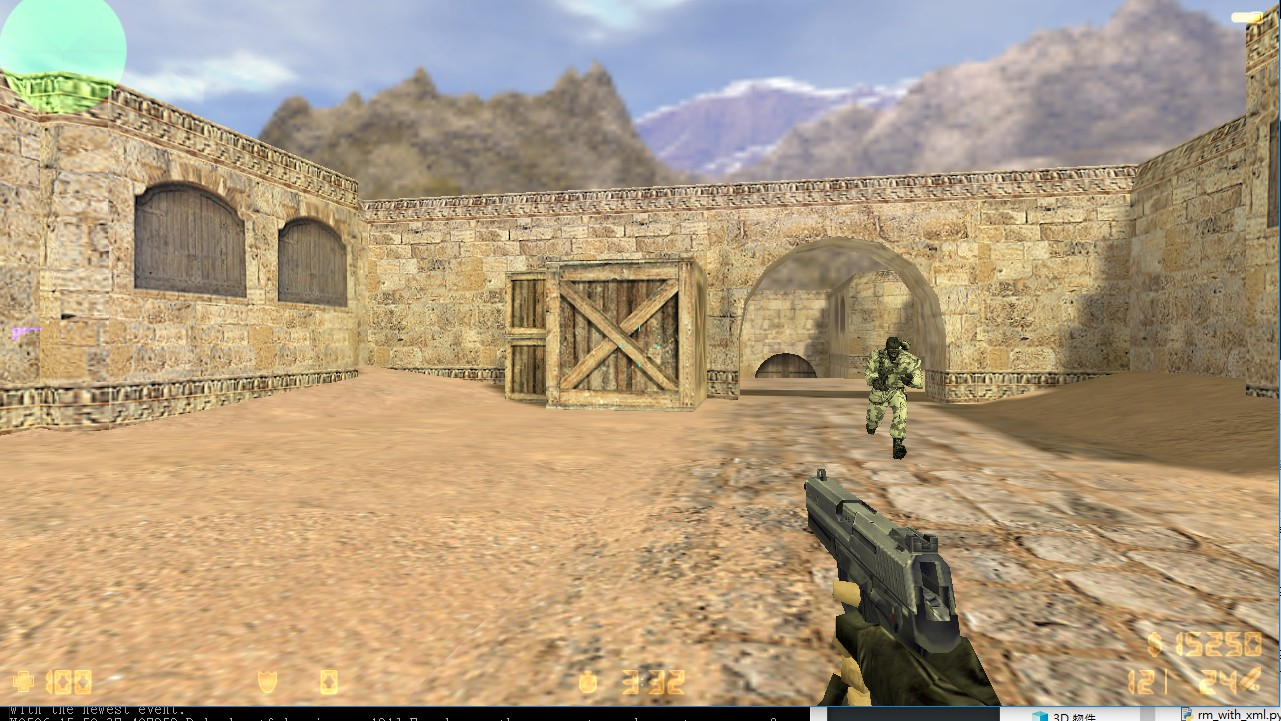person: (856, 328, 929, 468)
